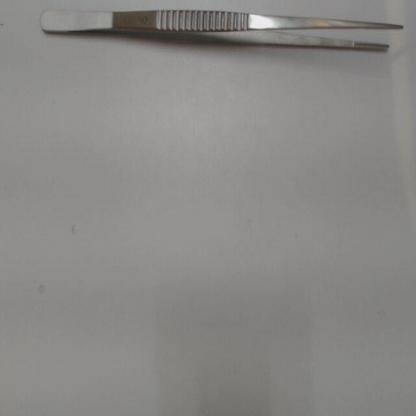DeBakey Dissector: (25, 5, 412, 70)
